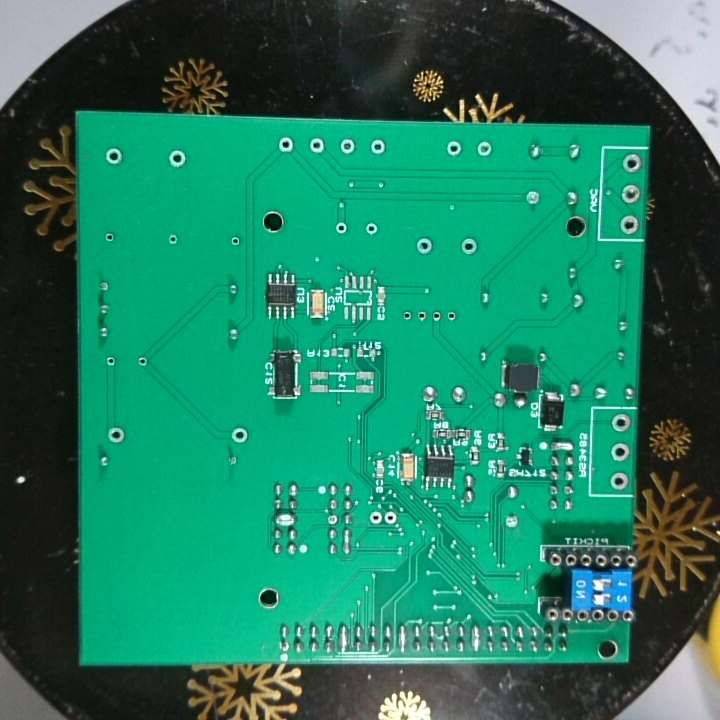F: (620, 151, 644, 177), (276, 133, 300, 158), (413, 234, 436, 258), (524, 186, 543, 215), (619, 183, 642, 206), (610, 412, 632, 435), (443, 138, 465, 161), (473, 139, 495, 162), (104, 145, 125, 169), (459, 235, 479, 260), (609, 469, 630, 492), (606, 443, 630, 463), (229, 426, 250, 448), (105, 424, 127, 445), (618, 214, 638, 237), (337, 136, 357, 158), (503, 509, 521, 533), (167, 148, 187, 169), (382, 507, 401, 529), (307, 135, 325, 158), (368, 135, 386, 158), (367, 509, 386, 526), (93, 279, 113, 295), (227, 233, 244, 251), (324, 512, 341, 529), (164, 231, 181, 248), (224, 452, 240, 469), (334, 220, 349, 238), (104, 353, 120, 369), (102, 230, 118, 246), (444, 308, 459, 325), (276, 638, 292, 653), (364, 220, 377, 238), (401, 307, 413, 326), (135, 354, 148, 371), (415, 307, 425, 326), (430, 308, 441, 325)
P: (340, 526, 354, 559), (550, 439, 576, 455), (336, 623, 350, 652), (470, 623, 482, 655), (273, 512, 298, 527), (397, 623, 407, 655)
